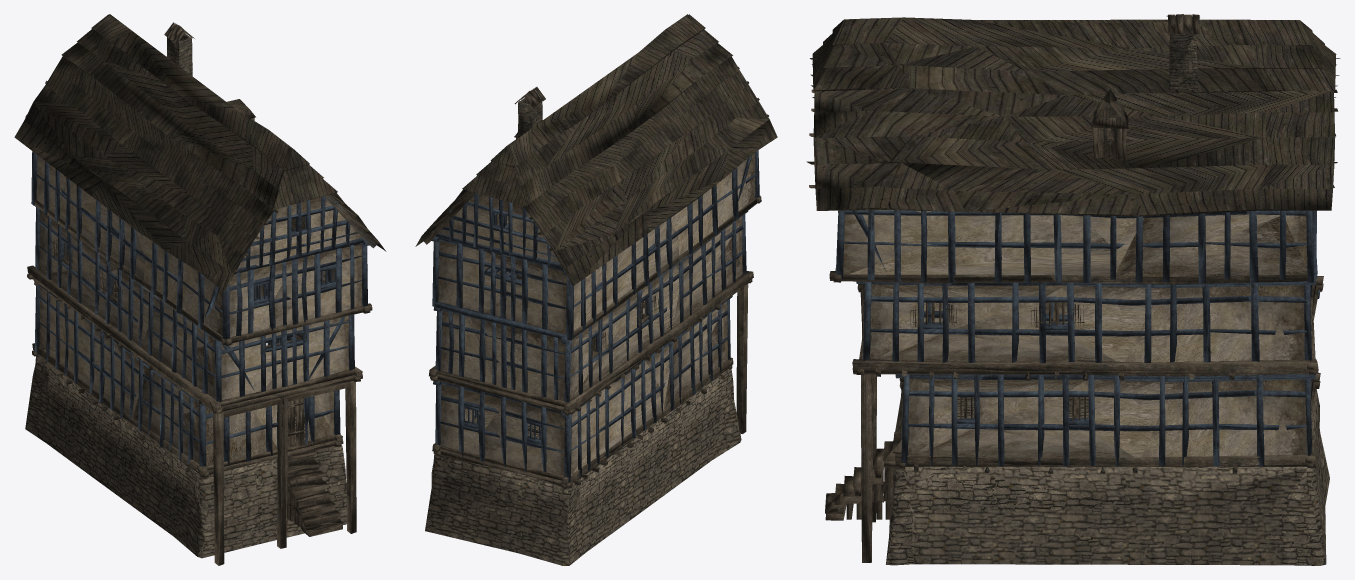
The model's file is eng_house_3.glb.
3 renders of one model, left to right at view 1: azimuth 30°, elevation 25°; view 2: azimuth 150°, elevation 25°; view 3: azimuth 270°, elevation 25°, orthographic. The views are drawn at different scales.
Parts seen in each view (by area): view 1: eng_house_3; view 2: eng_house_3; view 3: eng_house_3.
Boxes of the visible parts, bbox=[...] form: eng_house_3: bbox=[14, 14, 386, 565]; eng_house_3: bbox=[415, 14, 777, 565]; eng_house_3: bbox=[806, 14, 1340, 565].
Bounding box in the file's own units: 6.97 × 16.93 × 15.73.
7 materials, 7 textured.
